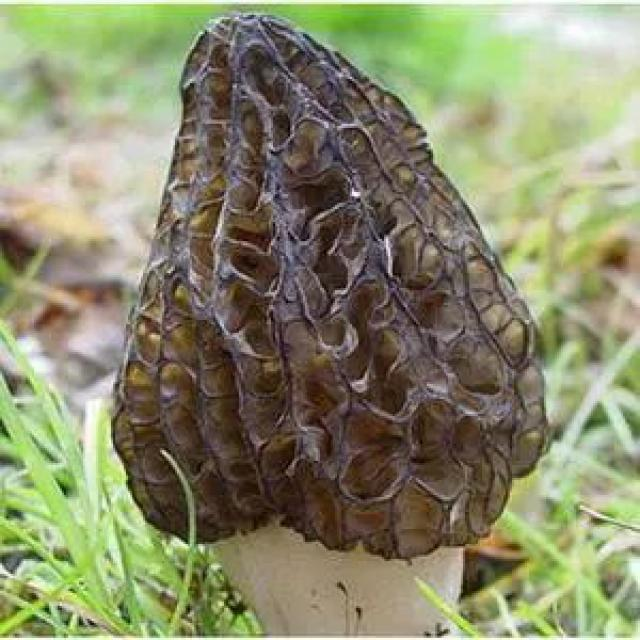Morchella esculenta: (113, 20, 549, 640)
